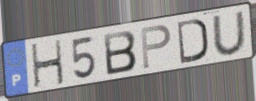5: (70, 35, 98, 81)
B: (101, 28, 139, 77)
D: (175, 17, 210, 66)
H: (29, 38, 66, 90)
P: (139, 23, 173, 72)
U: (210, 9, 249, 57)
